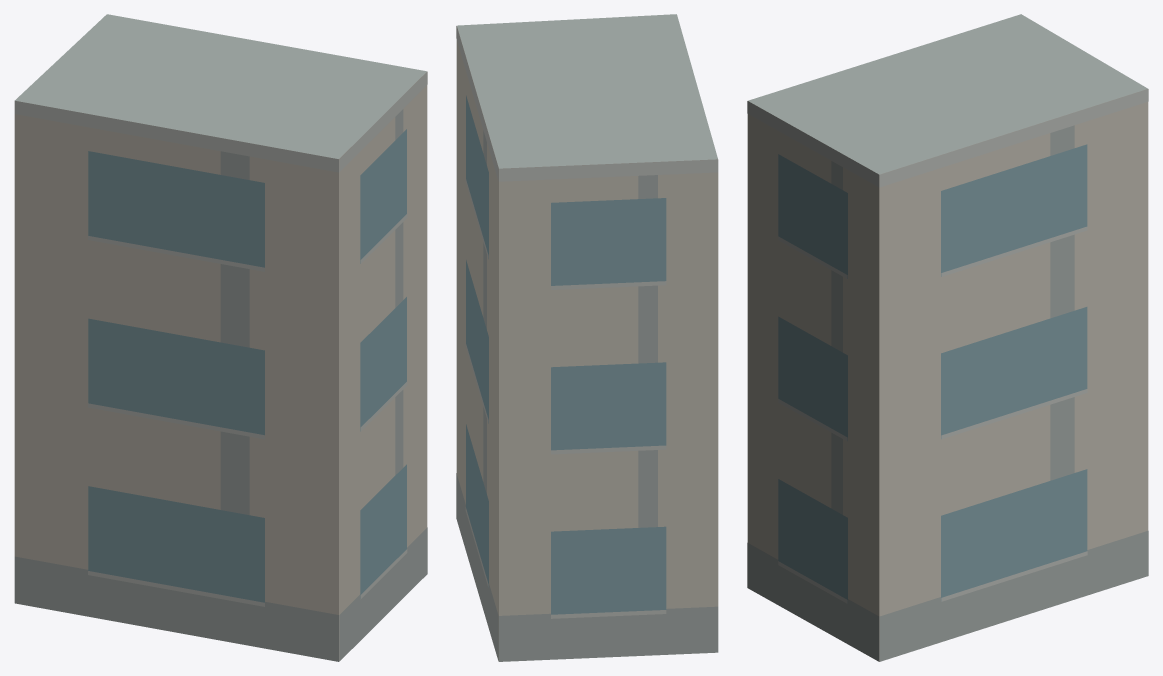
The model's file is survey-upis-32992565.glb.
3 renders of one model, left to right at view 1: azimuth 30°, elevation 25°; view 2: azimuth 150°, elevation 25°; view 3: azimuth 270°, elevation 25°, orthographic. The views are drawn at different scales.
Parts seen in each view (by area): view 1: survey-upis-32992565.tmp; view 2: survey-upis-32992565.tmp; view 3: survey-upis-32992565.tmp.
Boxes of the visible parts, <box> form: survey-upis-32992565.tmp: <box>14,14,427,661</box>; survey-upis-32992565.tmp: <box>456,14,718,661</box>; survey-upis-32992565.tmp: <box>747,14,1148,661</box>.
Size of the model in its own units: 6.48 by 9.15 by 6.83.
